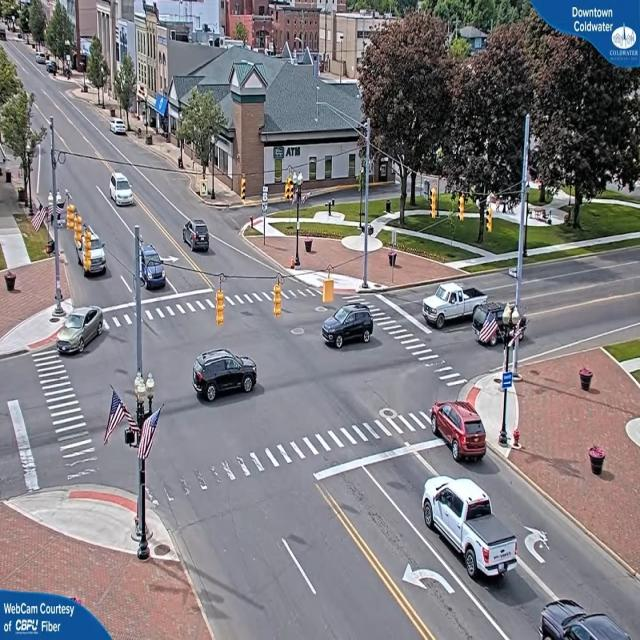car: (421, 475, 513, 583), (192, 347, 258, 406), (422, 280, 497, 330), (538, 602, 639, 639), (433, 400, 489, 464), (55, 308, 105, 358), (324, 301, 375, 348), (475, 304, 523, 353), (76, 231, 109, 279), (135, 244, 166, 289), (110, 173, 137, 210), (183, 219, 212, 253), (110, 119, 128, 136)
